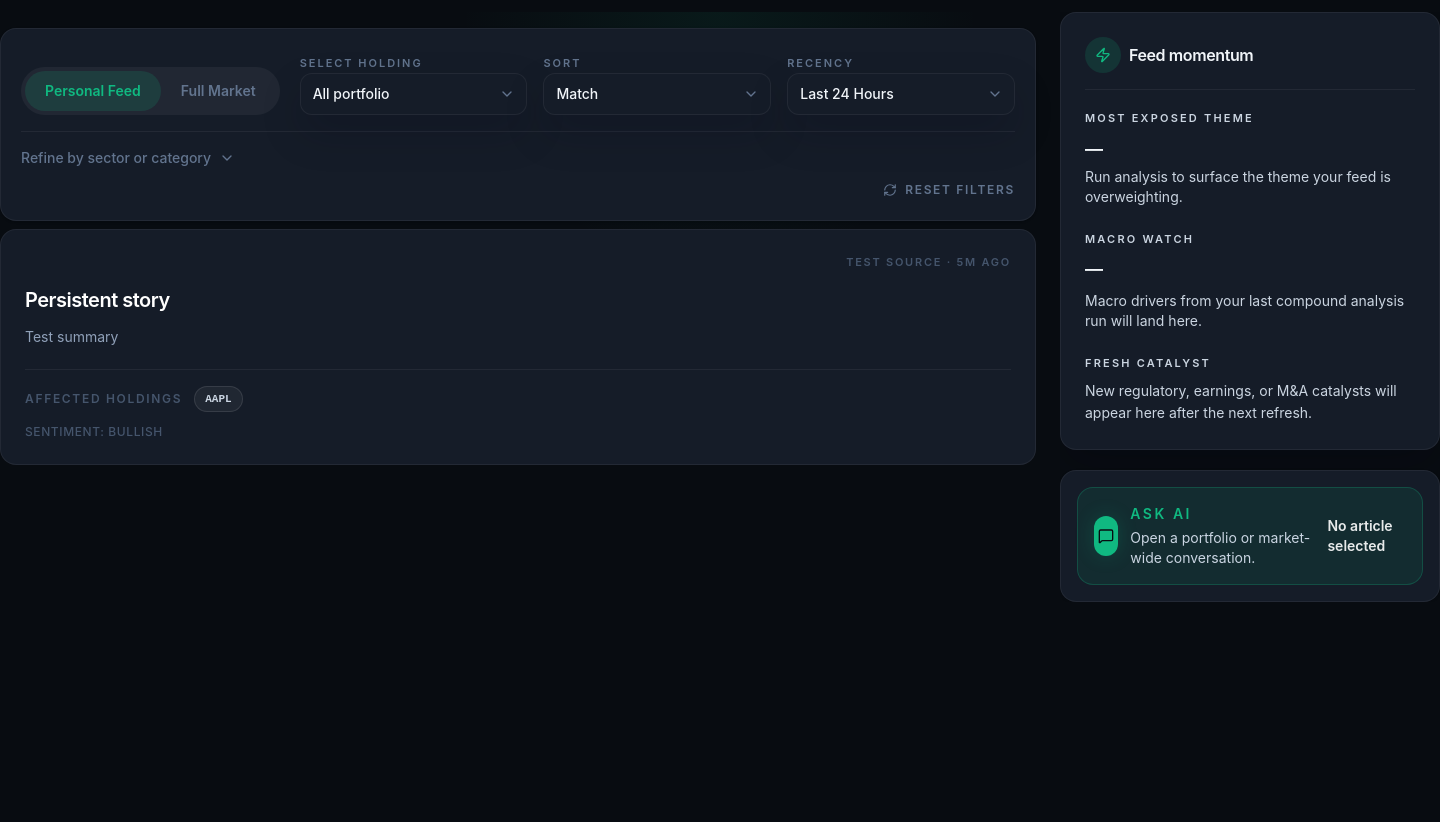
Scenario: FeedView › keeps the current story and chat visible during a silent realtime refresh
This screenshot has width=1440, height=822.
Click the heading "Persistent story". click: click(97, 300)
box: [25,288,170,312]
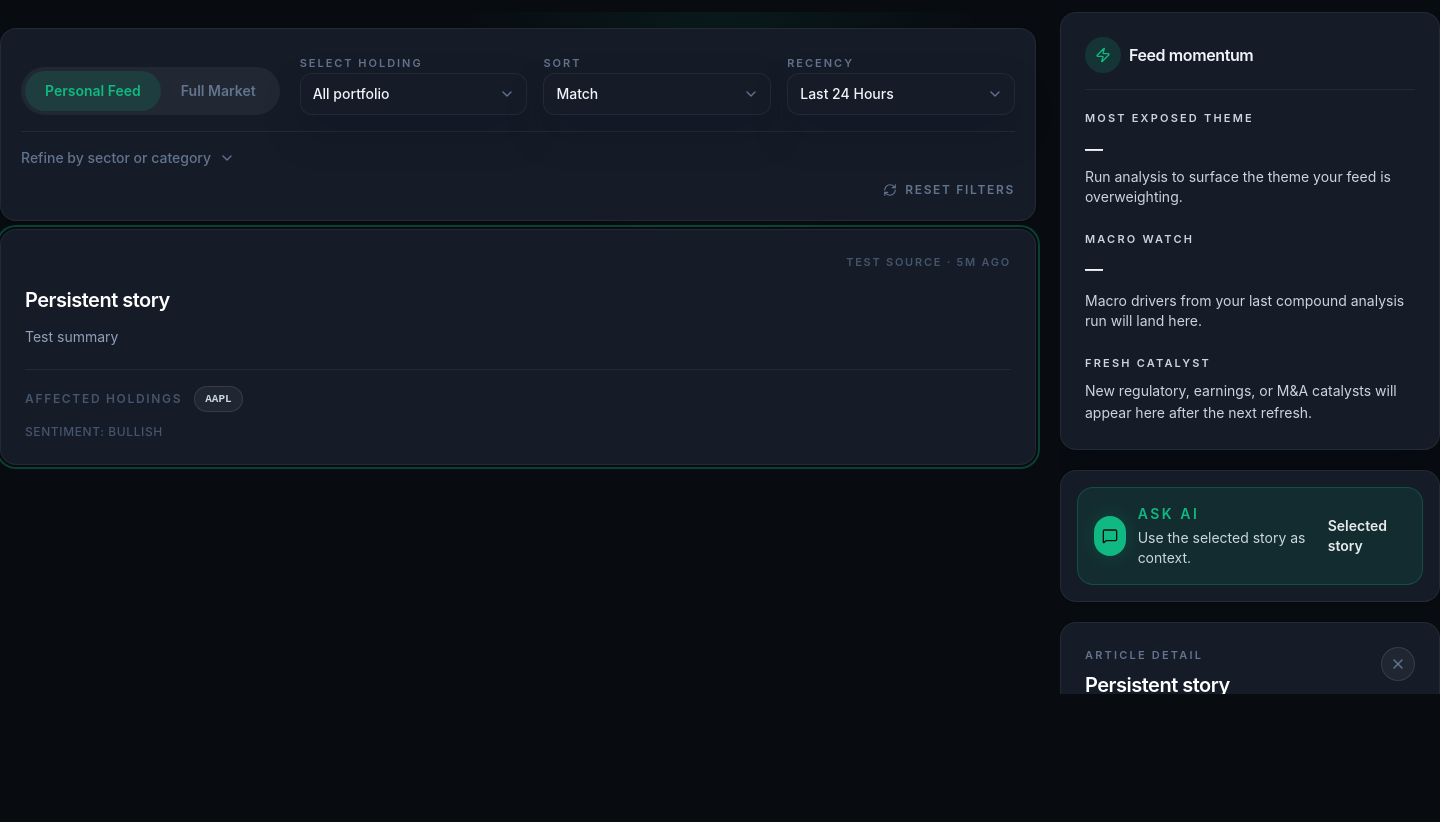
Click the button with test id "global-ask-ai-button". click: click(1250, 536)
box: [1077,487,1423,585]
Wait 800 ms
(page scrolled)
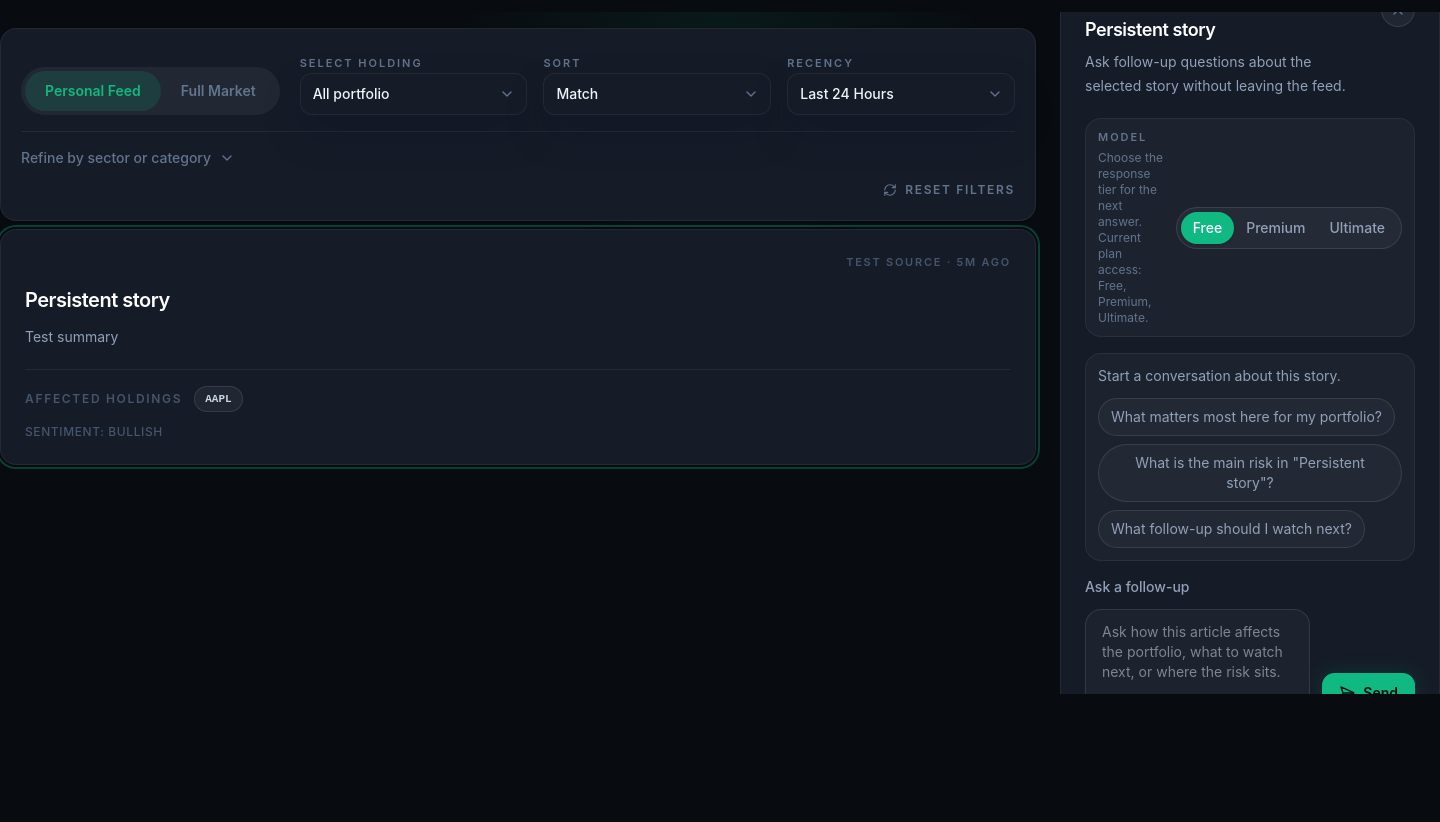
Check: the heading "Persistent story" below "Refine by sector or category" is shown, box [25,288,170,312]
Check: the element with test id "story-chat-sidebar" is shown, box [1060,12,1439,694]
